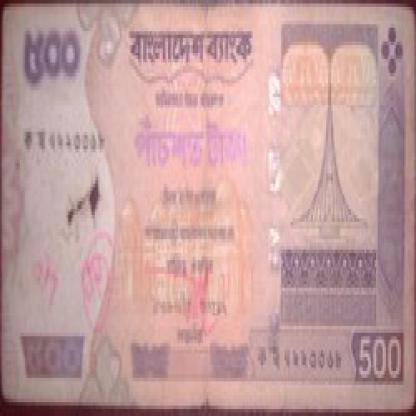500 taka: (130, 107, 261, 184), (13, 24, 100, 94)
currency: (3, 11, 414, 406)
